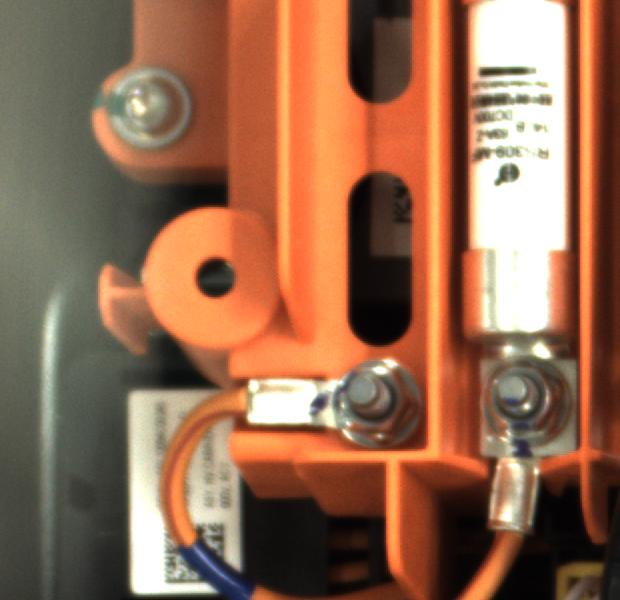screw_m: (96, 60, 206, 158)
screw_s: (466, 356, 579, 453), (318, 351, 421, 449)
